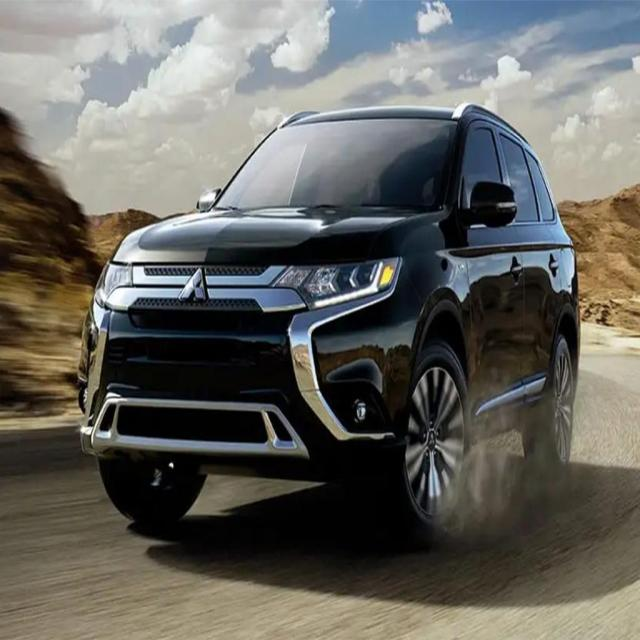light_vehicle: (76, 103, 582, 545)
